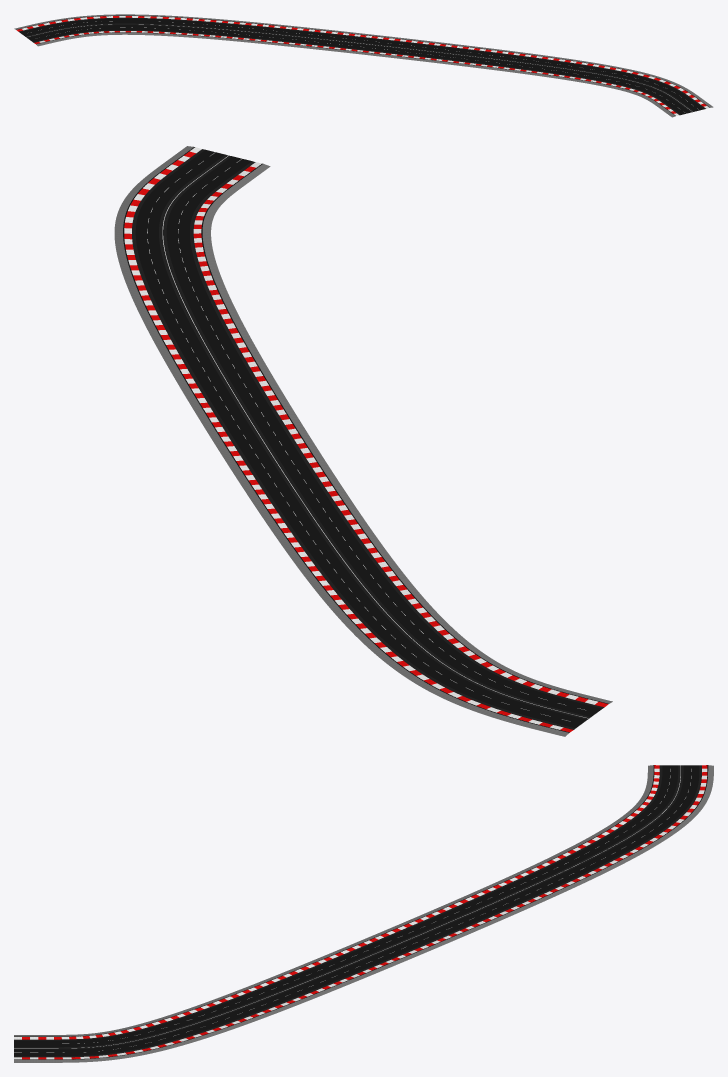
The model's file is S0.3r3-speed.glb.
3 renders of one model, top to bottom at view 1: azimuth 30°, elevation 25°; view 2: azimuth 150°, elevation 25°; view 3: azimuth 270°, elevation 25°, orthographic. The views are drawn at different scales.
Parts seen in each view (by area): view 1: Grid; view 2: Grid; view 3: Grid.
Boxes of the visible parts, left/top/right/bottom form: Grid: left=14, top=14, right=713, bottom=117; Grid: left=114, top=146, right=612, bottom=736; Grid: left=14, top=765, right=713, bottom=1062.
Bounding box in the file's own units: 266 × 0.31 × 265.
